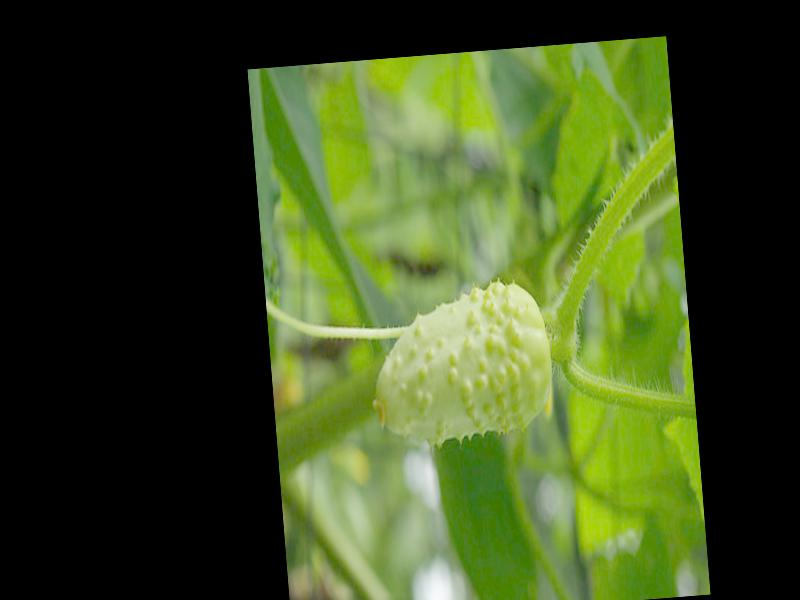Cucumber: (362, 276, 557, 446)
